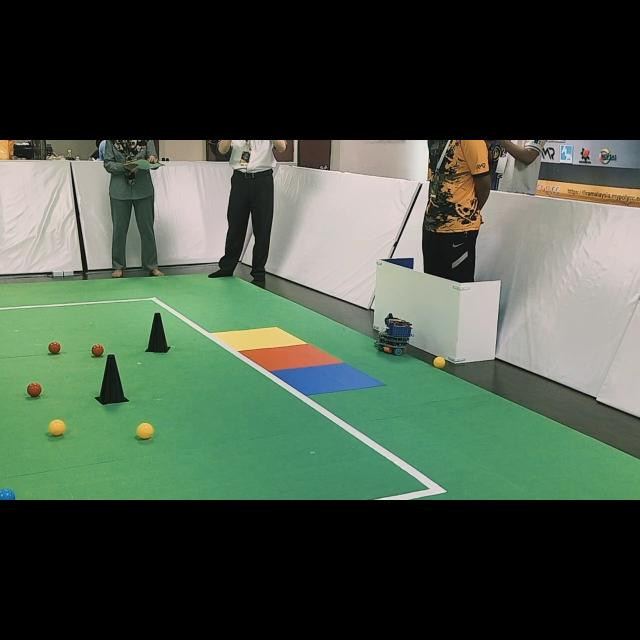ball: (136, 422, 154, 439), (49, 419, 66, 436), (28, 382, 42, 397), (432, 356, 446, 369), (0, 489, 16, 500), (91, 344, 104, 356), (49, 341, 61, 354)
goal: (272, 362, 385, 395), (241, 344, 341, 371), (212, 328, 306, 351)
